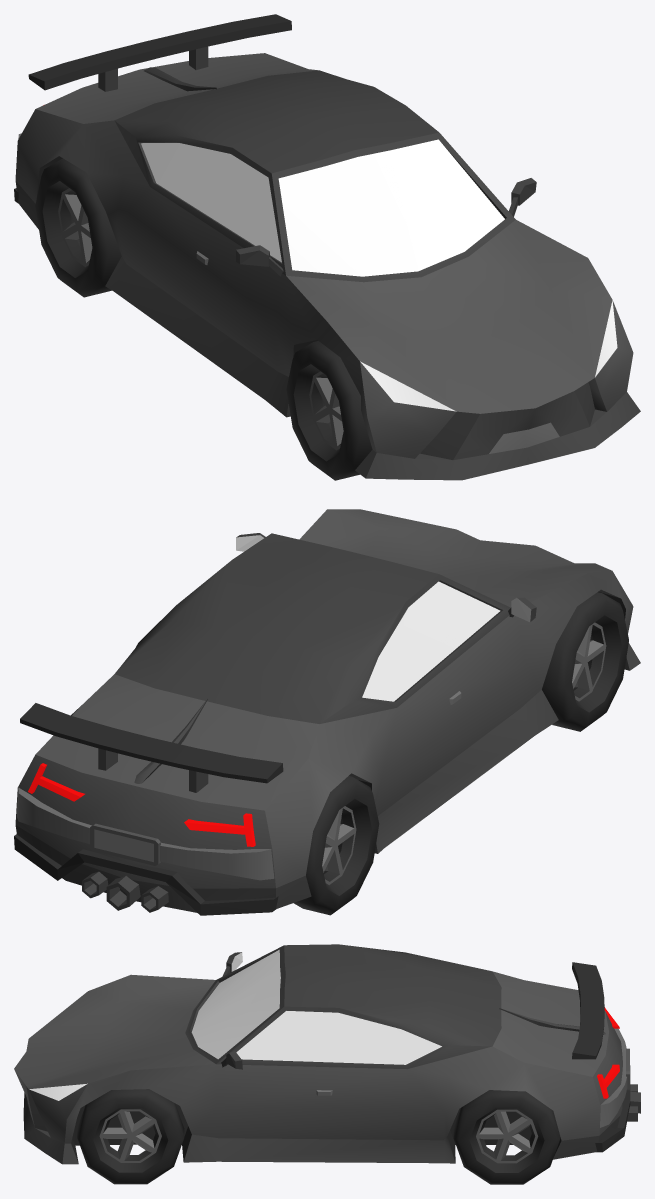
File: ghini.glb
3 views of the same model, one above another, from view 1: azimuth 30°, elevation 25°; view 2: azimuth 150°, elevation 25°; view 3: azimuth 270°, elevation 25° (orthographic). The views are drawn at different scales.
Visible parts, largest first — view 1: ghini, wheels.008, wheels.009; view 2: ghini, wheels.008, wheels.009; view 3: ghini, wheels.051, wheels.050.
Boxes of the visible parts, x1,y1,x2,y2 form: ghini: (14, 14, 640, 480); wheels.008: (286, 341, 372, 480); wheels.009: (35, 158, 121, 297); ghini: (14, 509, 640, 915); wheels.008: (542, 592, 628, 731); wheels.009: (293, 776, 379, 915); ghini: (14, 944, 640, 1164); wheels.051: (77, 1089, 184, 1184); wheels.050: (453, 1090, 560, 1184).
Bounding box in the file's own units: 1.97 × 1.38 × 4.79.
Materials: 3 (2 with a texture image).
